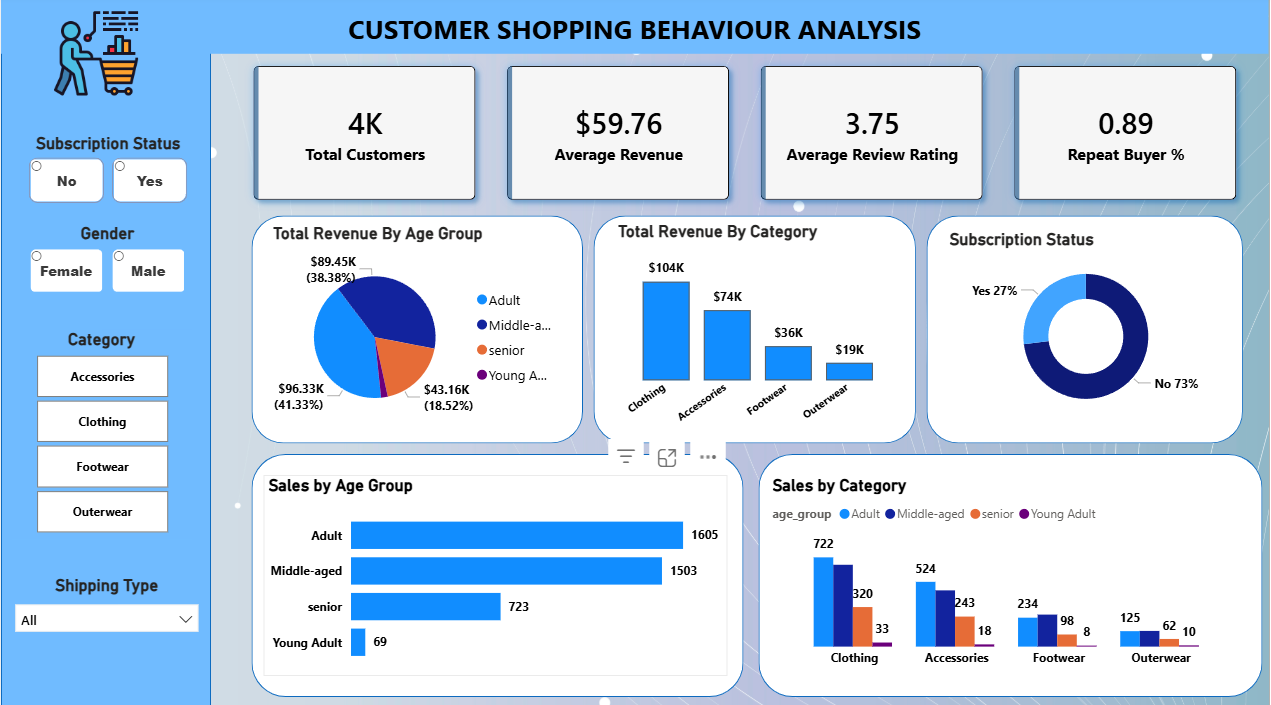

Layout of this report page (visuals, bound fields, positions):
{"tool":"powerbi","page":{"name":"Dashboard","canvas":[1280,720],"ordinal":0},"visuals":[{"type":"cardVisual","fields":{"Data":["MeasureTable.Total Customers","MeasureTable.Total Revenue","MeasureTable.Avg Review Rating","MeasureTable.Repeat Buyer %"]},"box":[225.6,42.4,1053.9,193.8],"z":0},{"type":"textbox","box":[0,0,1279.5,59.1],"z":1000},{"type":"shape","box":[252.9,222.6,334.6,230.2],"z":2000},{"type":"pieChart","title":"Total Revenue By Age Group","fields":{"Category":["public customer.age_group"],"Y":["Sum(public customer.purchased_amount)"]},"box":[269.5,230.2,302.8,210.5],"z":3000},{"type":"shape","box":[934.3,222.6,319.5,230.2],"z":4000},{"type":"shape","box":[598.1,222.6,325.6,230.2],"z":5000},{"type":"donutChart","title":"Subscription Status","fields":{"Category":["public customer.subscription_status"],"Y":["CountNonNull(public customer.subscription_status)"]},"box":[952.4,236.2,284.7,196.8],"z":6000},{"type":"columnChart","title":"Total Revenue By Category","fields":{"Category":["public customer.category"],"Y":["Sum(public customer.purchased_amount)"]},"box":[617.8,228.6,293.8,212],"z":7000},{"type":"shape","box":[0,0,212,719.2],"z":8000},{"type":"advancedSlicerVisual","title":"Subscription Status","fields":{"Values":["public customer.subscription_status"]},"box":[16.7,115.1,171.1,75.7],"z":9000},{"type":"advancedSlicerVisual","title":"Gender","fields":{"Values":["public customer.gender"]},"box":[16.7,210.5,169.6,75.7],"z":10000},{"type":"slicer","title":"Category","fields":{"Values":["public customer.category"]},"box":[4.5,319.5,181.7,212],"z":11000},{"type":"slicer","title":"Shipping Type","fields":{"Values":["public customer.shipping_type"]},"box":[4.5,564.8,204.4,92.4],"z":12000},{"type":"shape","box":[252.9,463.3,496.7,245.3],"z":13000},{"type":"shape","box":[764.7,463.3,508.8,245.3],"z":14501},{"type":"clusteredColumnChart","title":"Sales by Category","fields":{"Category":["public customer.category"],"Y":["CountNonNull(public customer.category)"],"Series":["public customer.age_group"]},"box":[773.8,484.5,484.5,202.9],"z":16001},{"type":"barChart","title":"Sales by Age Group","fields":{"Category":["public customer.age_group"],"Y":["CountNonNull(public customer.purchased_amount)"]},"box":[265,484.5,467.9,202.9],"z":16002}]}

Visuals, with their boxes in screenshot pixels (x1, y1, x2, y2), scaled from the page's 1280x720 canvas onto the 1271x705 screenshot:
cardVisual - MeasureTable.Total Customers x MeasureTable.Total Revenue: [x1=224, y1=42, x2=1270, y2=231]
textbox: [x1=0, y1=0, x2=1270, y2=58]
shape: [x1=251, y1=218, x2=583, y2=443]
"Total Revenue By Age Group" pieChart: [x1=268, y1=225, x2=568, y2=432]
shape: [x1=928, y1=218, x2=1245, y2=443]
shape: [x1=594, y1=218, x2=917, y2=443]
"Subscription Status" donutChart: [x1=946, y1=231, x2=1228, y2=424]
"Total Revenue By Category" columnChart: [x1=613, y1=224, x2=905, y2=431]
shape: [x1=0, y1=0, x2=211, y2=704]
"Subscription Status" advancedSlicerVisual: [x1=17, y1=113, x2=186, y2=187]
"Gender" advancedSlicerVisual: [x1=17, y1=206, x2=185, y2=280]
"Category" slicer: [x1=4, y1=313, x2=185, y2=520]
"Shipping Type" slicer: [x1=4, y1=553, x2=207, y2=644]
shape: [x1=251, y1=454, x2=744, y2=694]
shape: [x1=759, y1=454, x2=1265, y2=694]
"Sales by Category" clusteredColumnChart: [x1=768, y1=474, x2=1249, y2=673]
"Sales by Age Group" barChart: [x1=263, y1=474, x2=728, y2=673]
